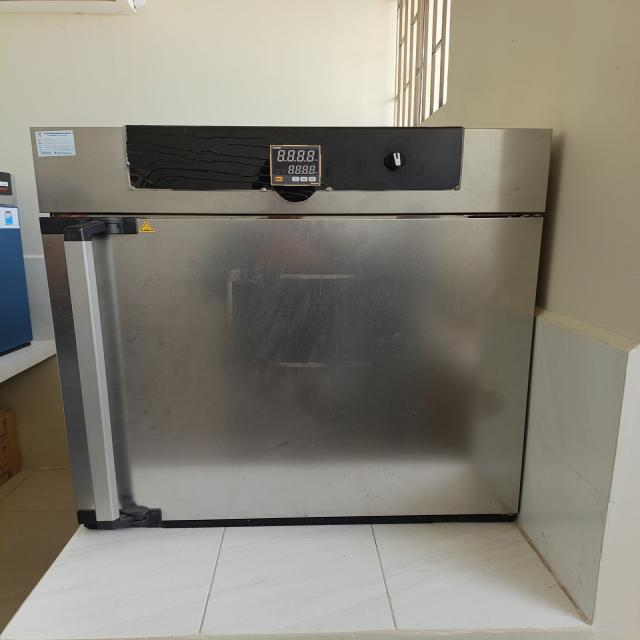Stufa de Laboratorio de Conveccion: (31, 124, 551, 534)
